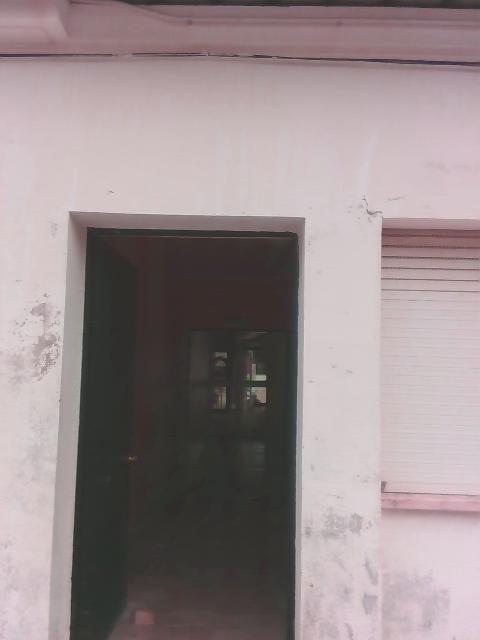open_door: (48, 209, 305, 638)
